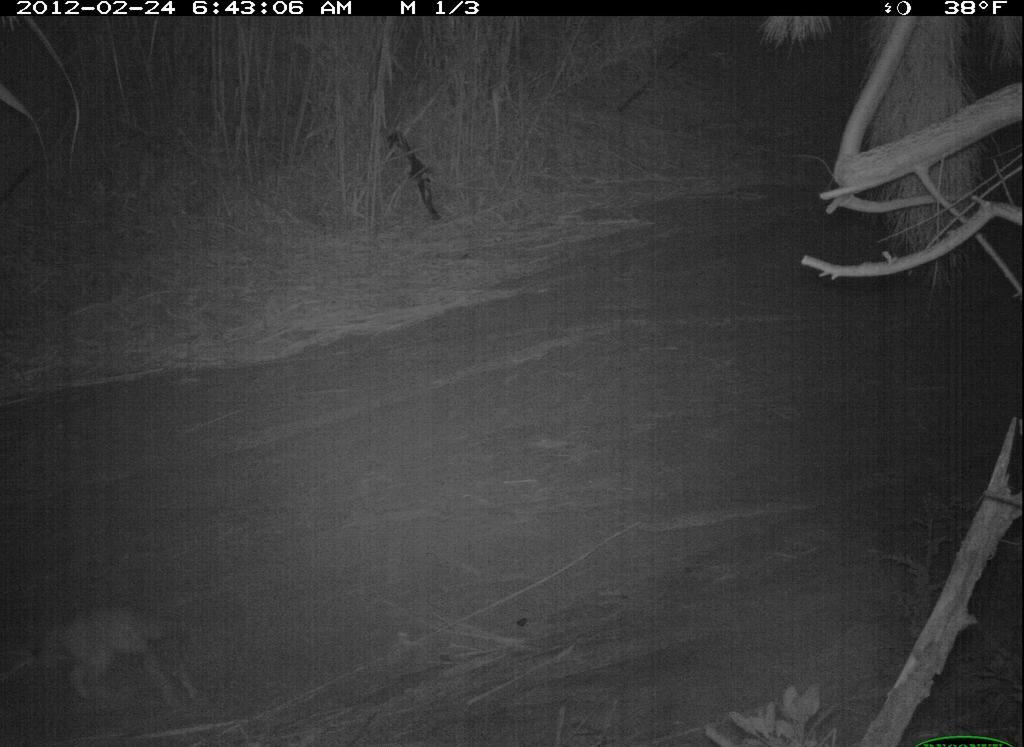bobcat: (30, 605, 214, 717)
